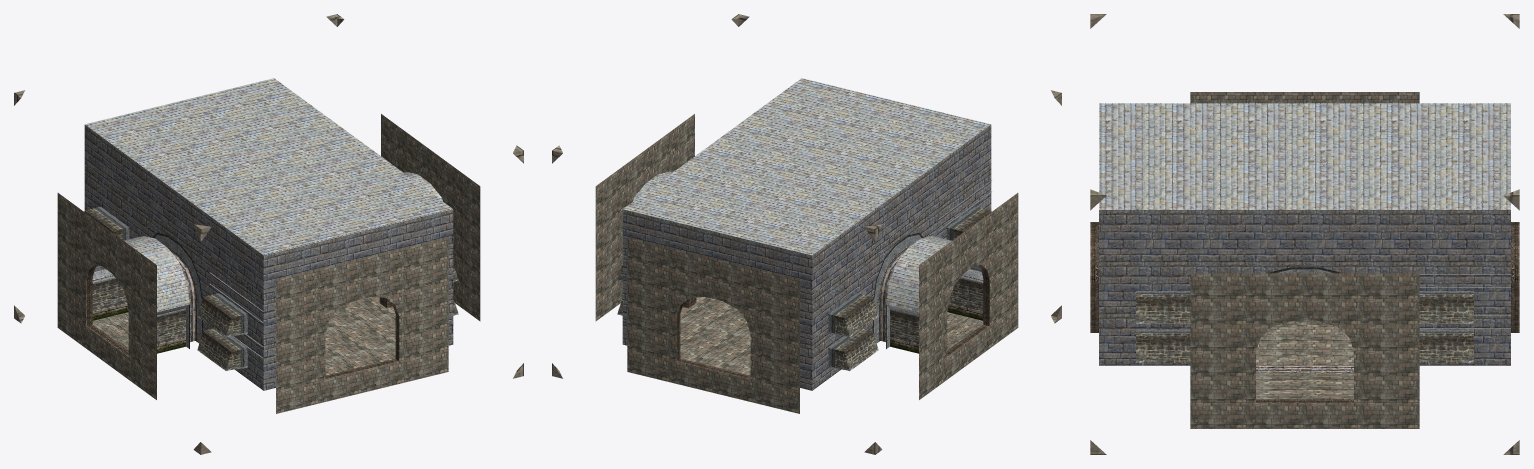
Rendered from lbg_4b.glb.
3 renders of one model, left to right at view 1: azimuth 30°, elevation 25°; view 2: azimuth 150°, elevation 25°; view 3: azimuth 270°, elevation 25°, orthographic. The views are drawn at different scales.
Parts seen in each view (by area): view 1: lbg_4b-col; view 2: lbg_4b-col; view 3: lbg_4b-col.
Boxes of the visible parts, x1,y1,x2,y2 form: lbg_4b-col: [14, 14, 523, 454]; lbg_4b-col: [552, 14, 1061, 454]; lbg_4b-col: [1090, 14, 1519, 454].
Size of the model in its own units: 15 by 10 by 15.
8 materials, 8 textured.
